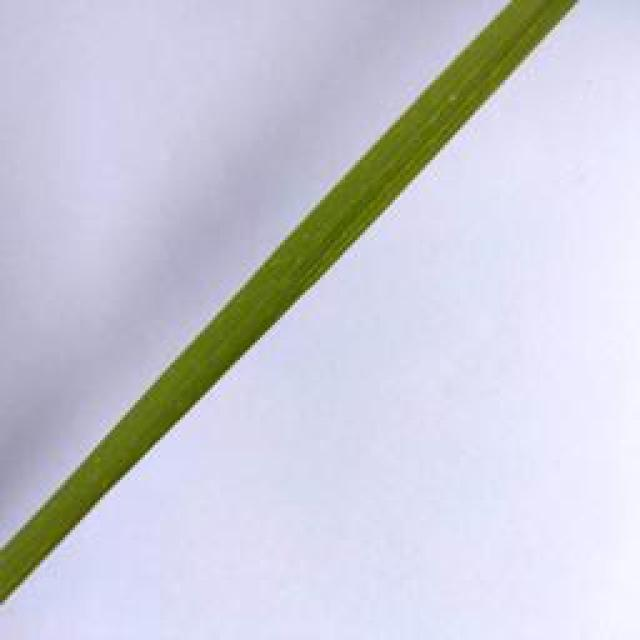Healthy-Plant: (0, 0, 572, 602)
